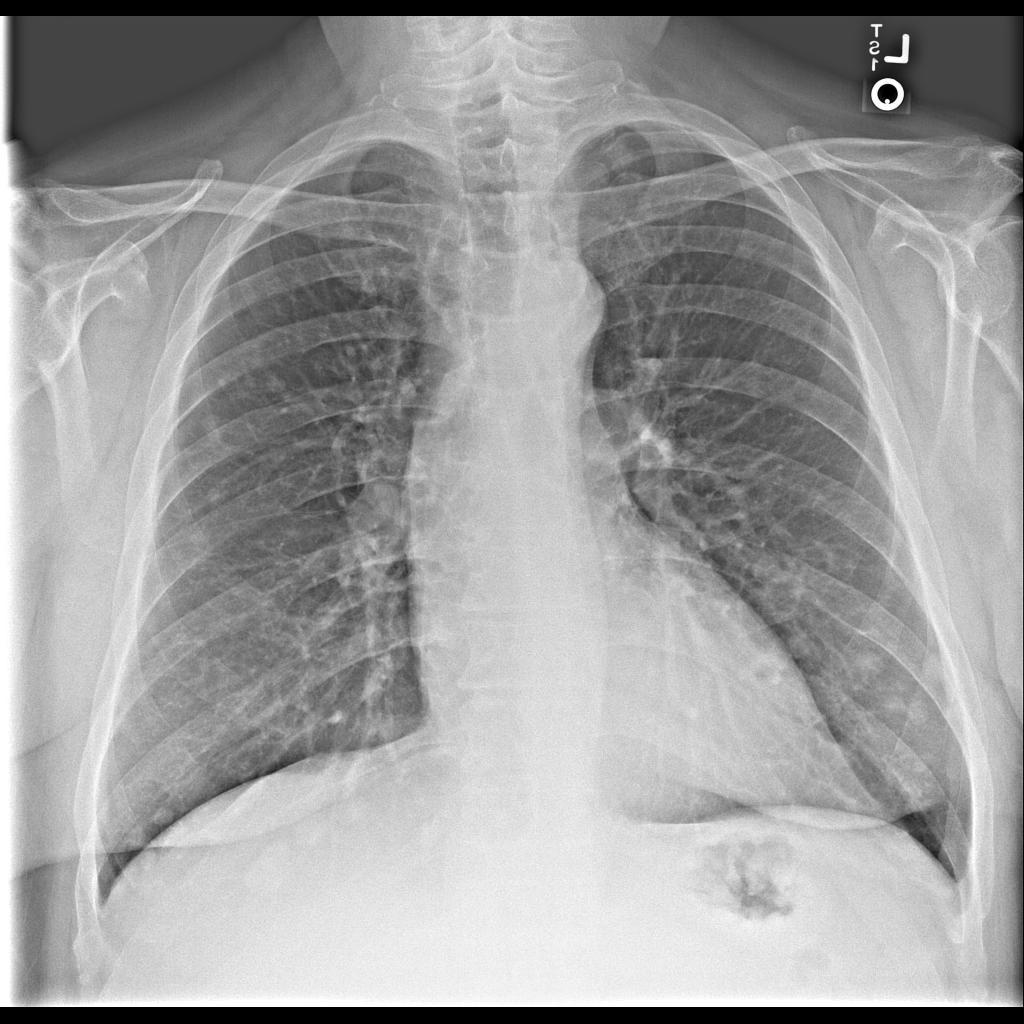Nodule: (882, 692, 930, 734), (854, 648, 881, 677)
